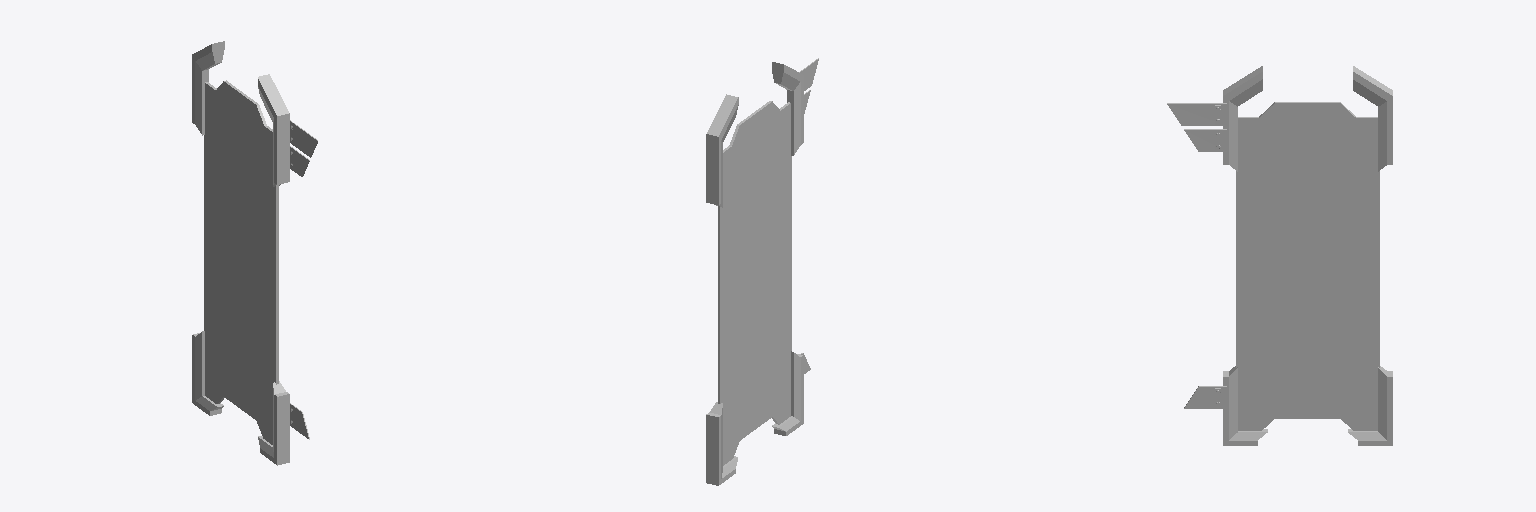
Rendered from Signage_07 OPTIONs.obj.
3 renders of one model, left to right at view 1: azimuth 30°, elevation 25°; view 2: azimuth 150°, elevation 25°; view 3: azimuth 270°, elevation 25°, orthographic.
Visible parts, largest first — view 1: Options_sign_01; view 2: Options_sign_01; view 3: Options_sign_01.
Part boxes in pixels (x1,y1,x2,y2): Options_sign_01: (192, 41, 317, 465); Options_sign_01: (706, 58, 818, 485); Options_sign_01: (1167, 66, 1392, 445).
Bounding box in the file's own units: 9.02 × 229 × 125.